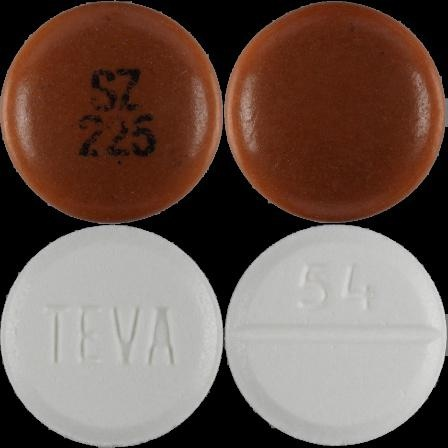0615-7717: (0, 0, 224, 224)
